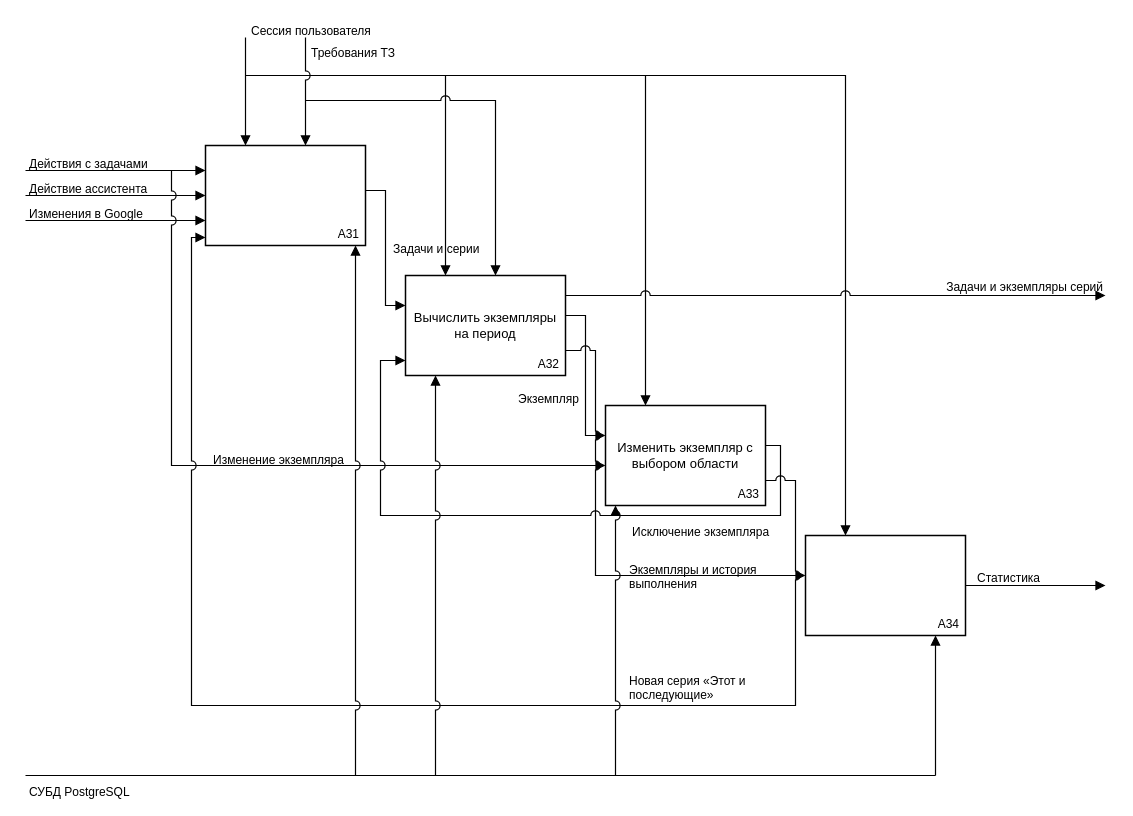
This 1133x816 diagram has some shape labels left out. Each missing label, with the box of its shape:
Рассчитать статистику: (804, 534, 966, 636)
Сохранить задачу или серию: (204, 144, 366, 246)
